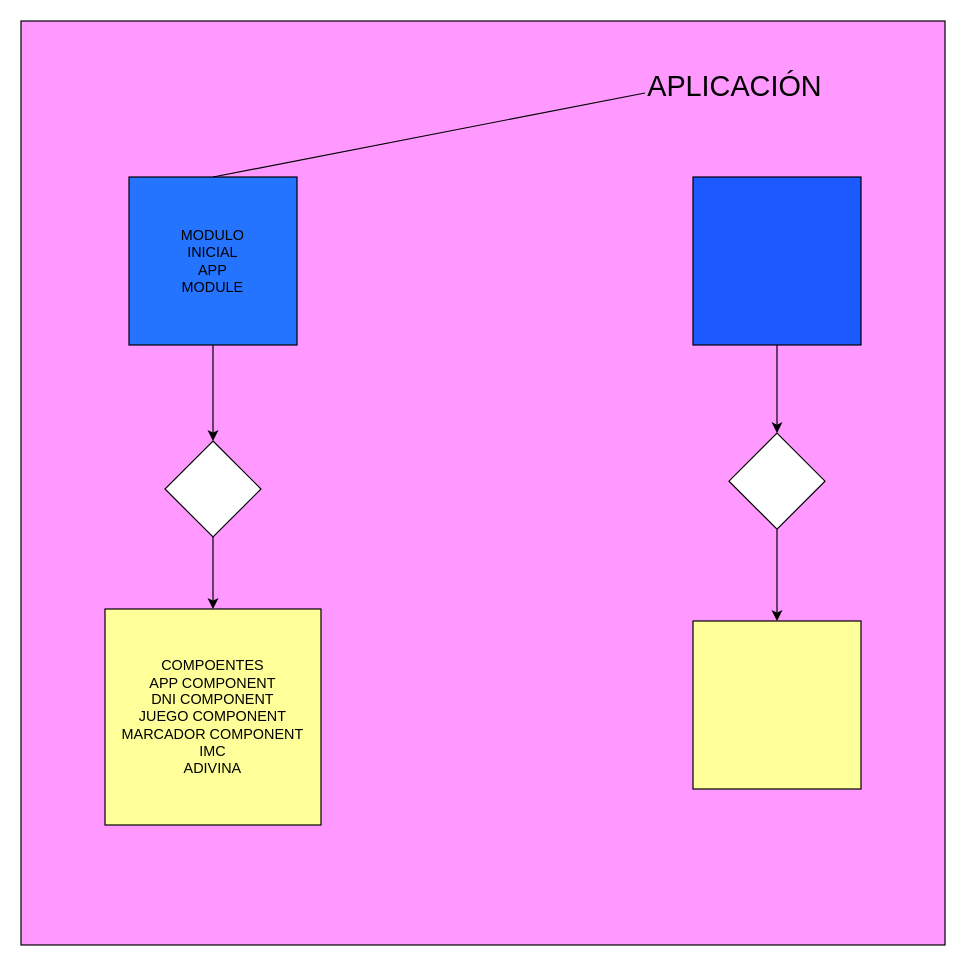
This 966x966 diagram has some shape labels left out. The box of each missing label's shape, as (x1, y1, x2, y2) in pixels:
MENU SUPERIOR (público o exportado): (692, 620, 861, 789)
MODULO LAYOUT: (692, 176, 861, 345)
